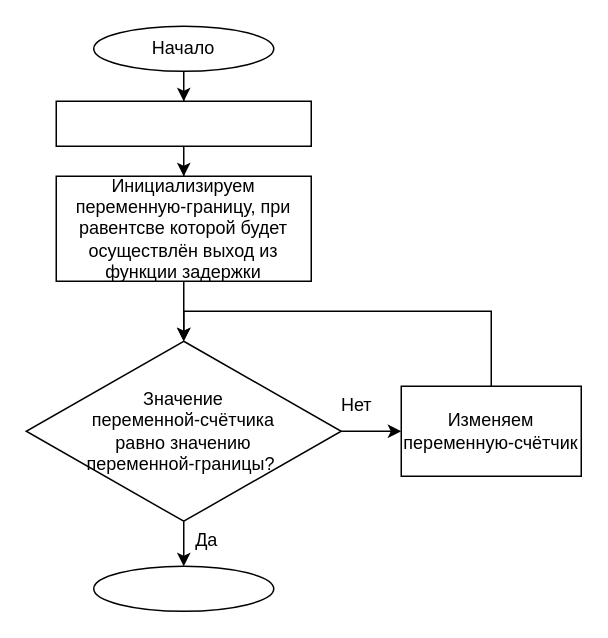
The diagram is 608 pixels wide and 638 high, and some of its shapes have lost their labels. The box of each missing label's shape, as (x1, y1, x2, y2) in pixels:
Инициализируем переменную-счётчик: (55, 100, 311, 146)
Конец: (92, 565, 274, 611)
